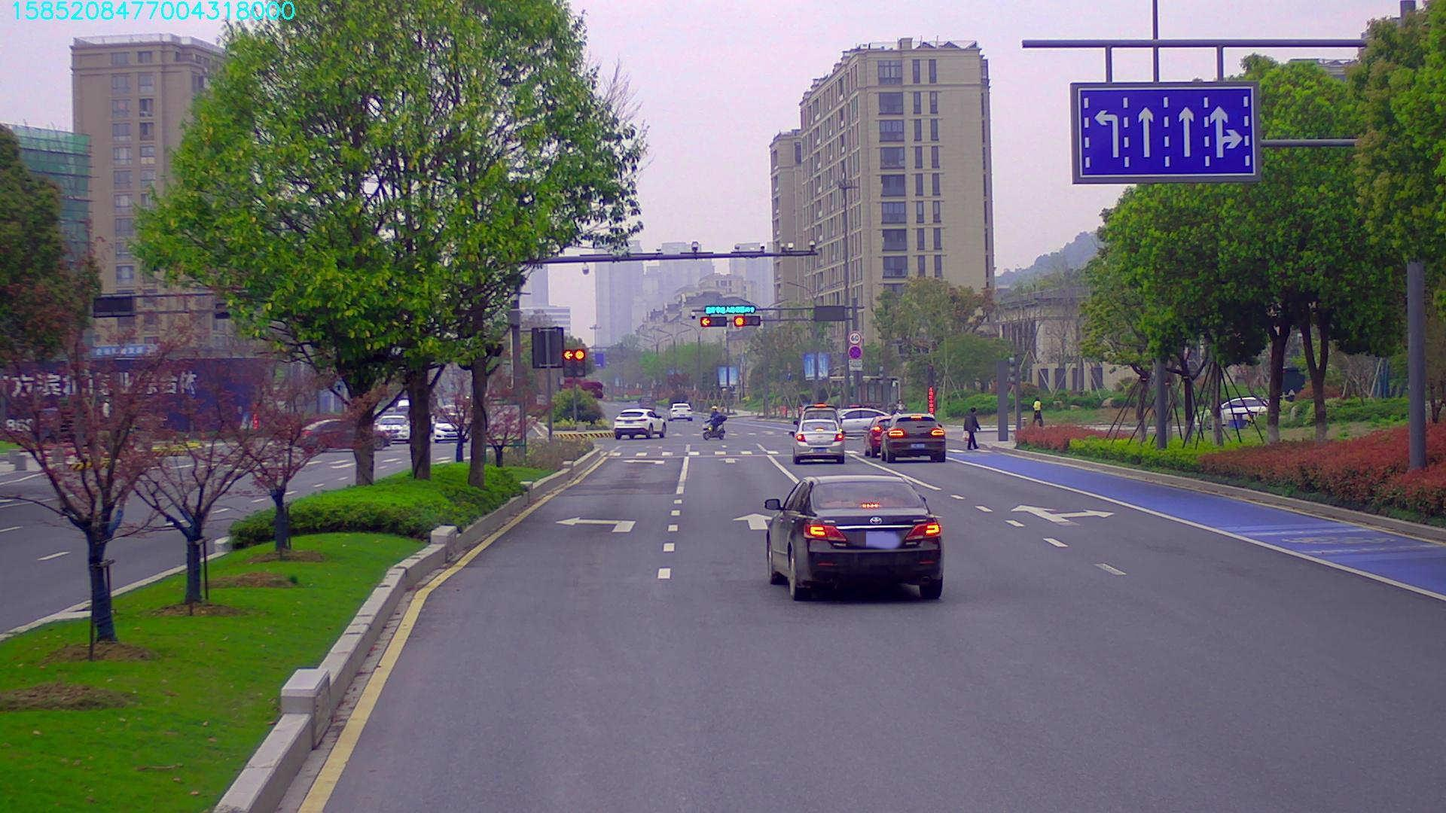red: (695, 315, 728, 325), (731, 315, 755, 325)
wait_on: (703, 302, 759, 315)
